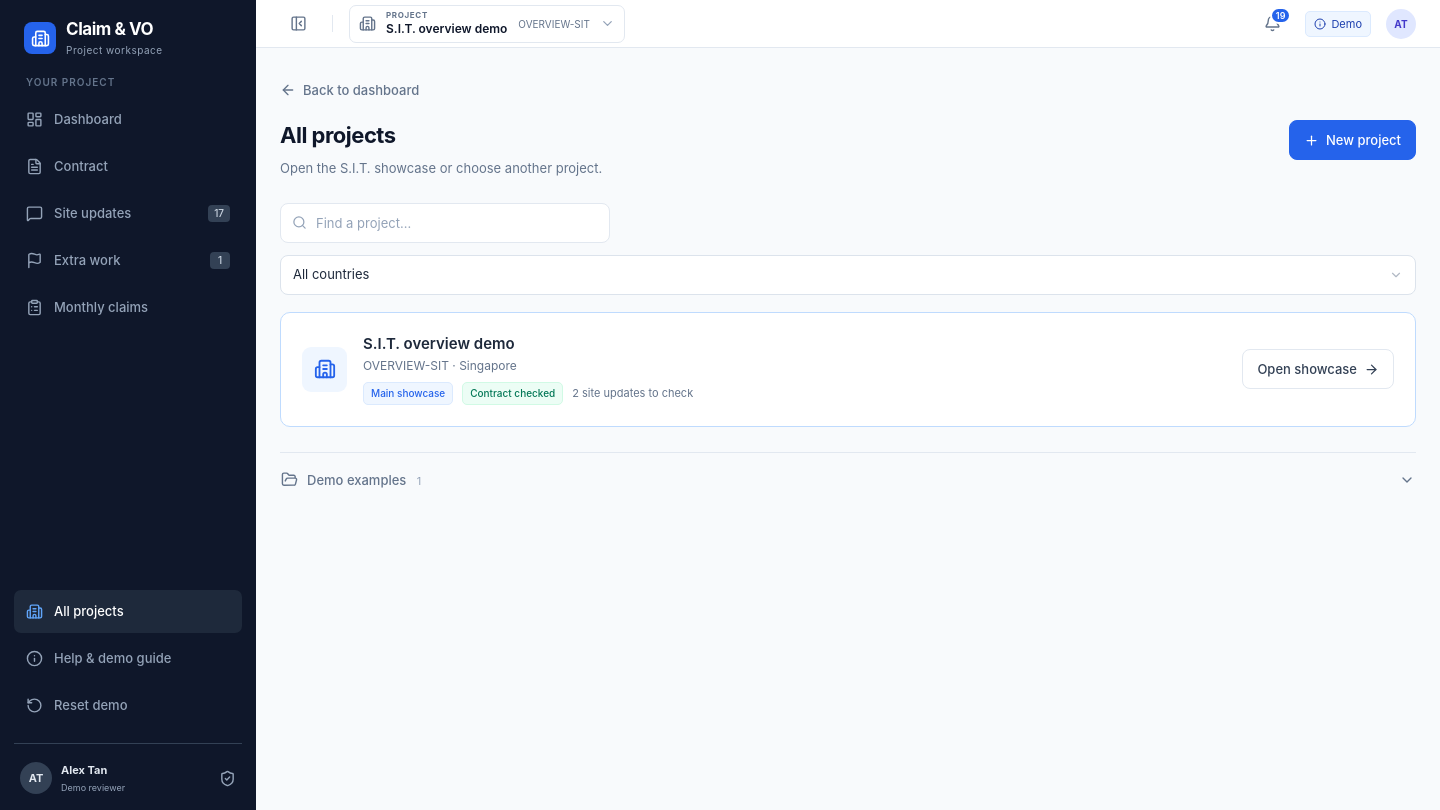
removed Overview links return to Dashboard without changing saved project records › keeps All projects reachable and opens the showcase Dashboard without changing its data
Expected: the heading "All projects" is shown, [280,122,396,148]
Click the button "Back to dashboard" at x=350, y=90, box [280,72,419,108]
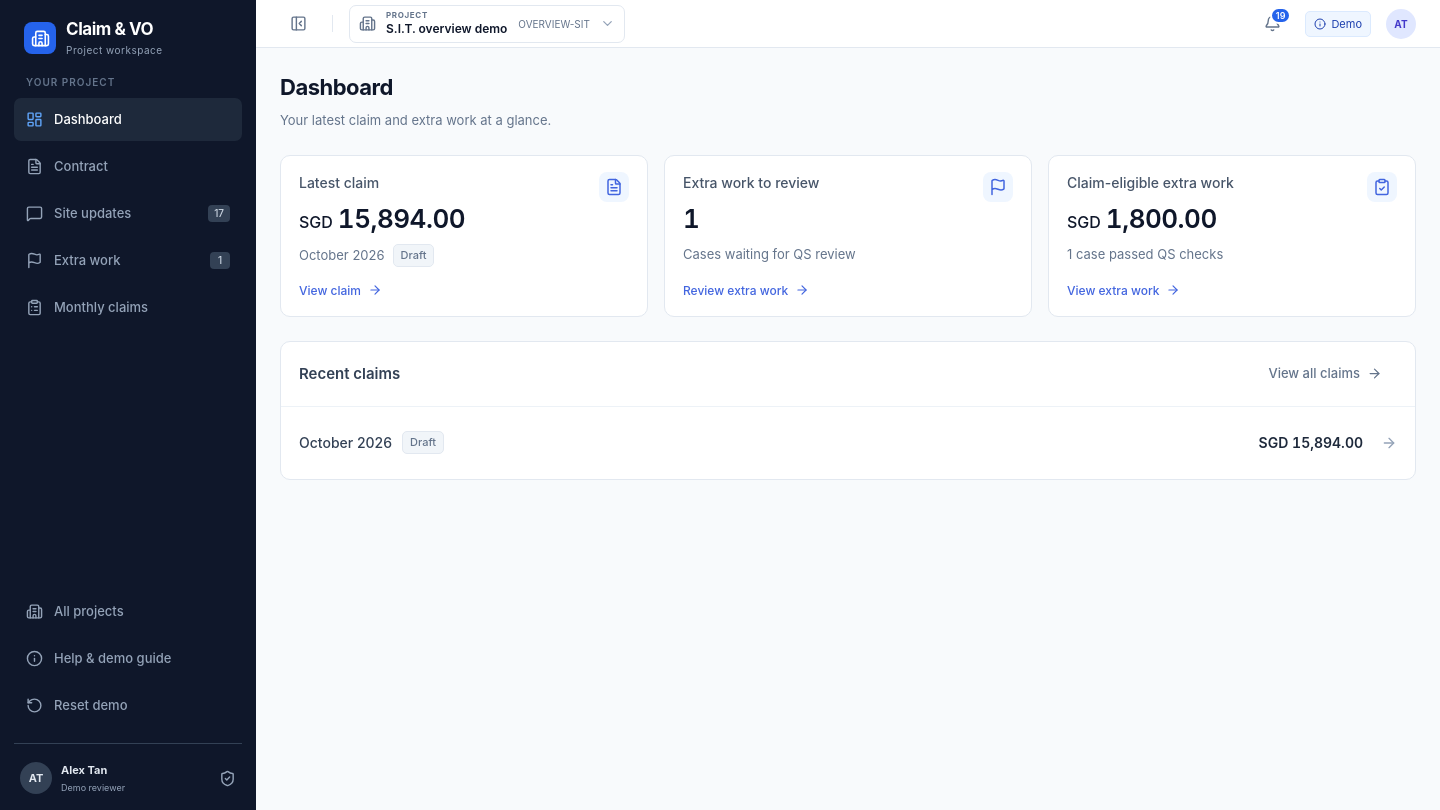
Now the heading "Dashboard" is shown, box [280,74,393,100]
Click the button "All projects" at x=128, y=612, box [14,590,242,633]
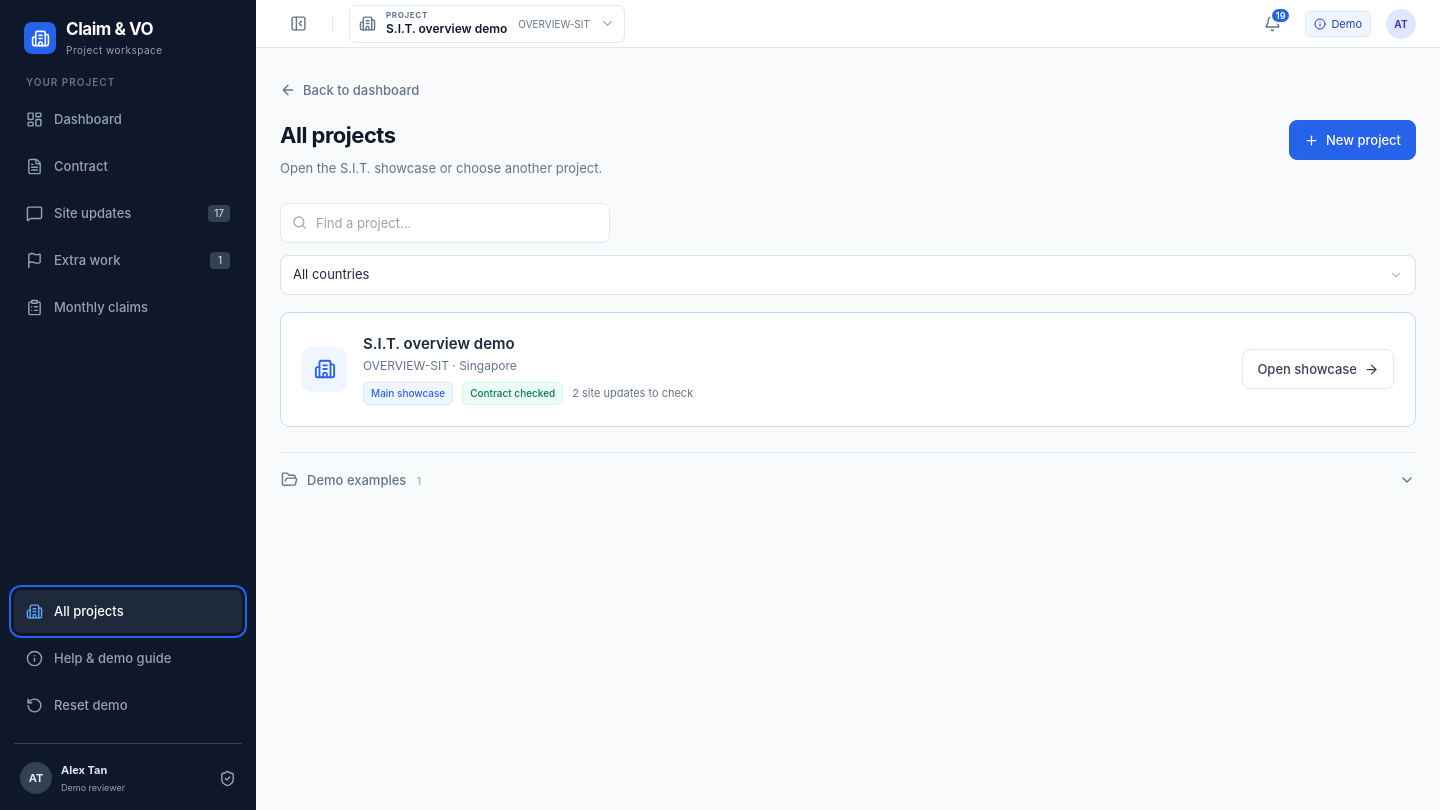
Now the heading "All projects" is shown, box [280,122,396,148]
Click the button "Open showcase" at x=1318, y=369, box [1242,349,1394,389]
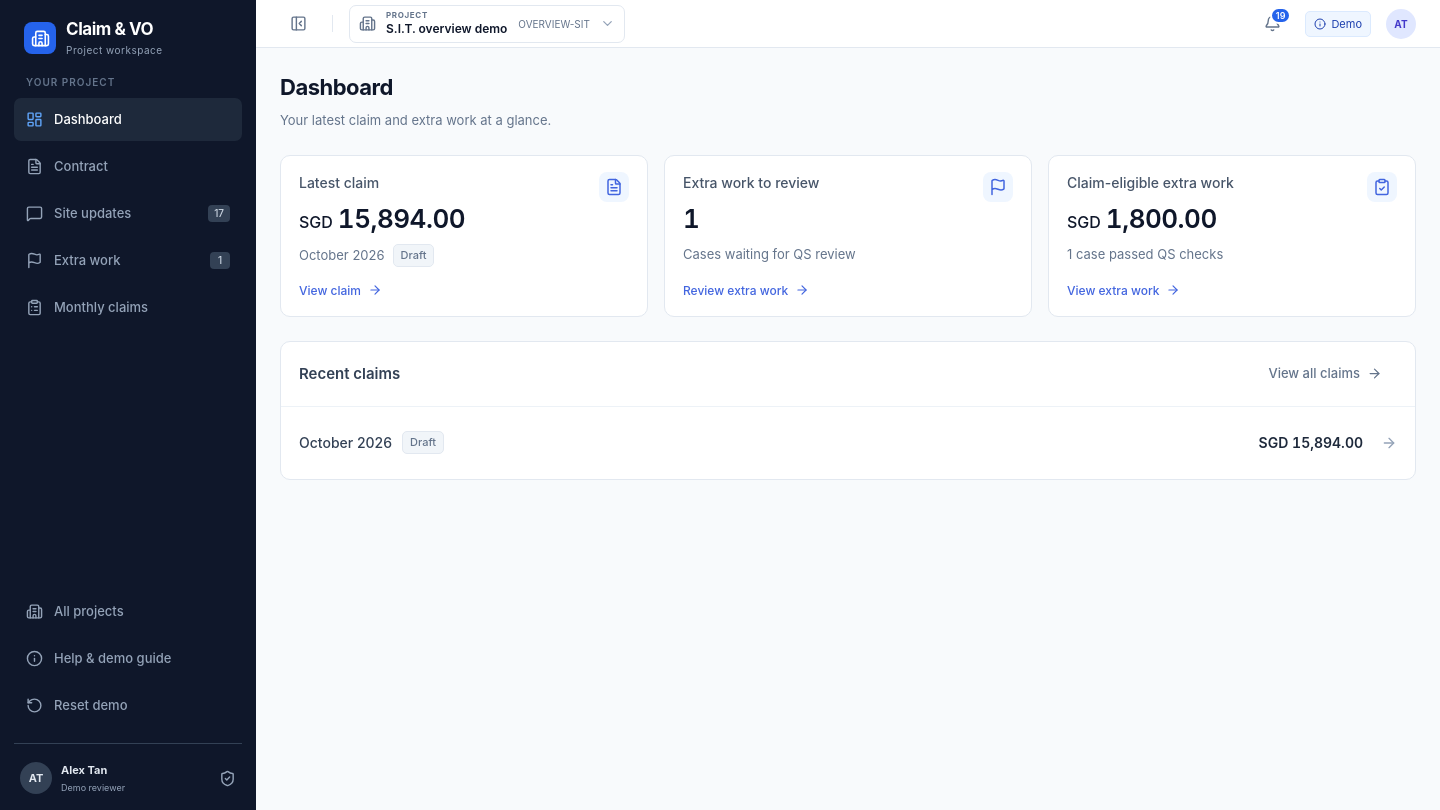
Now the heading "Dashboard" is shown, box [280,74,393,100]
